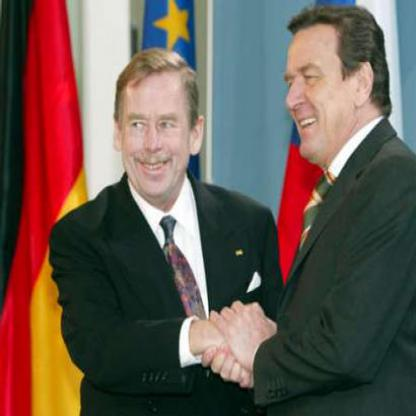face: (281, 13, 358, 166), (119, 56, 193, 200)
